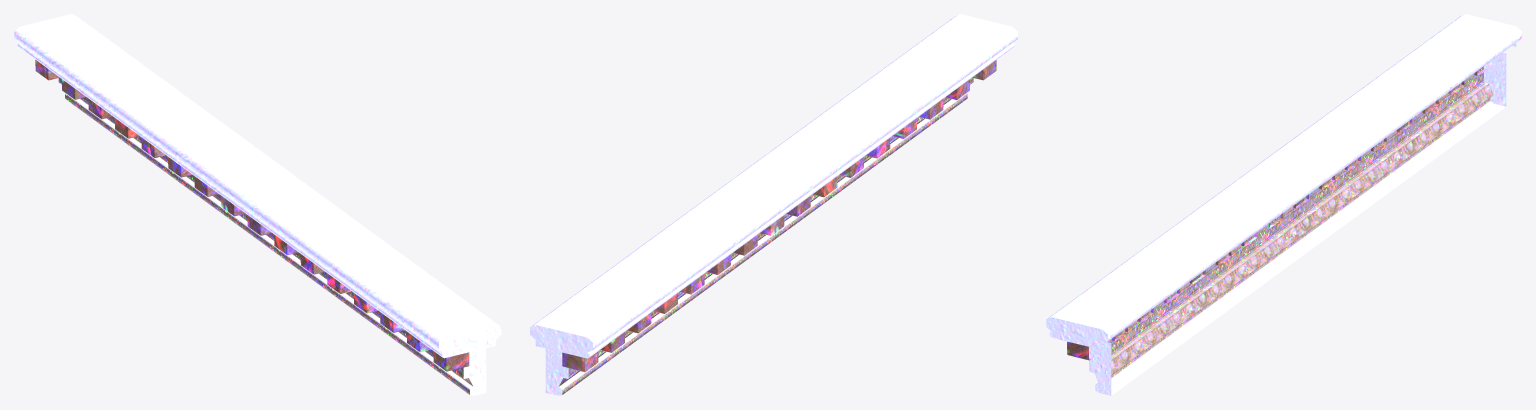
Rendered from trim_crown_SM.fbx.
3 renders of one model, left to right at view 1: azimuth 30°, elevation 25°; view 2: azimuth 150°, elevation 25°; view 3: azimuth 330°, elevation 25°, orthographic. The views are drawn at different scales.
Visible parts, largest first — view 1: trim_crown_SM_LOD0; view 2: trim_crown_SM_LOD0; view 3: trim_crown_SM_LOD0.
Part boxes in pixels (x1,y1,x2,y2): trim_crown_SM_LOD0: [14, 14, 501, 395]; trim_crown_SM_LOD0: [530, 14, 1017, 395]; trim_crown_SM_LOD0: [1046, 14, 1521, 395].
Size of the model in its own units: 87.43 by 1024 by 100.
Materials: 3 (2 with a texture image).
